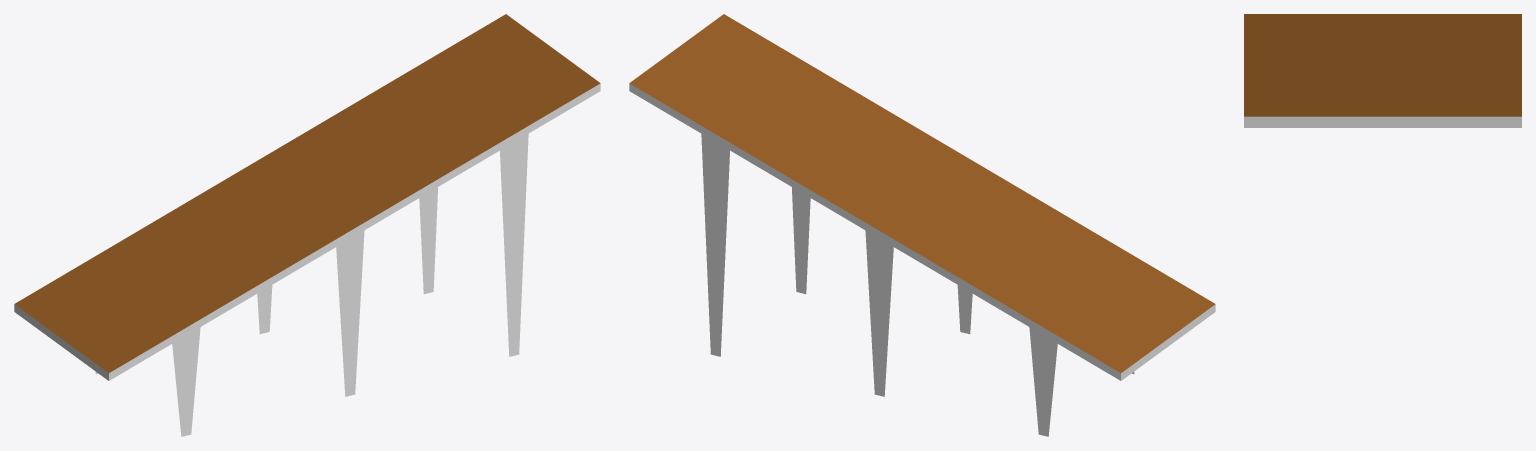
Rendered from DockAStriaghtRampA.fbx.
3 renders of one model, left to right at view 1: azimuth 30°, elevation 25°; view 2: azimuth 150°, elevation 25°; view 3: azimuth 270°, elevation 25°, orthographic. The views are drawn at different scales.
Visible parts, largest first — view 1: DockAStriaghtRampA; view 2: DockAStriaghtRampA; view 3: DockAStriaghtRampA.
Boxes of the visible parts, box(x1,y1,x2,y2) form: DockAStriaghtRampA: box(14, 14, 600, 436); DockAStriaghtRampA: box(629, 14, 1215, 436); DockAStriaghtRampA: box(1244, 14, 1521, 127).
Bounding box in the file's own units: 1650 × 820 × 550.
1 material, 1 textured.
